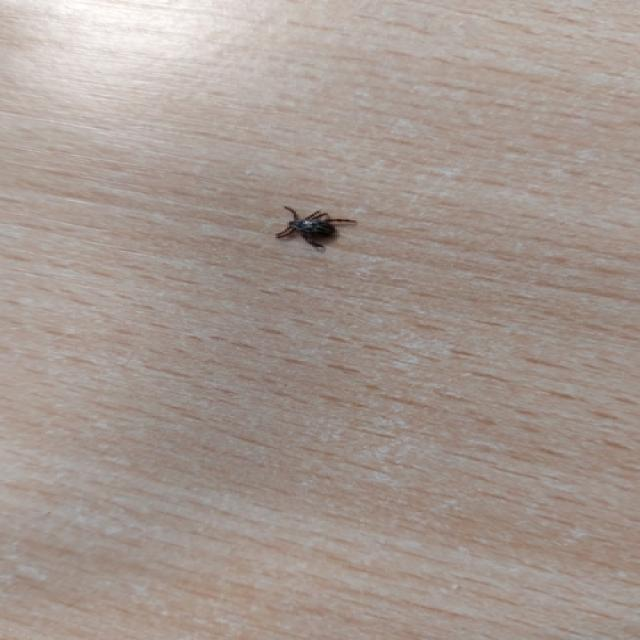Dermacentor Reticulatus-M: (273, 207, 360, 253)
